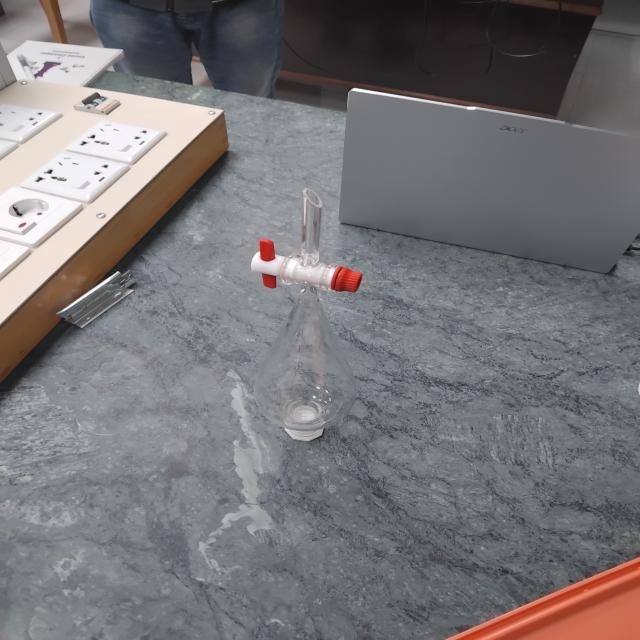Separating_Funnel: (211, 161, 397, 474)
